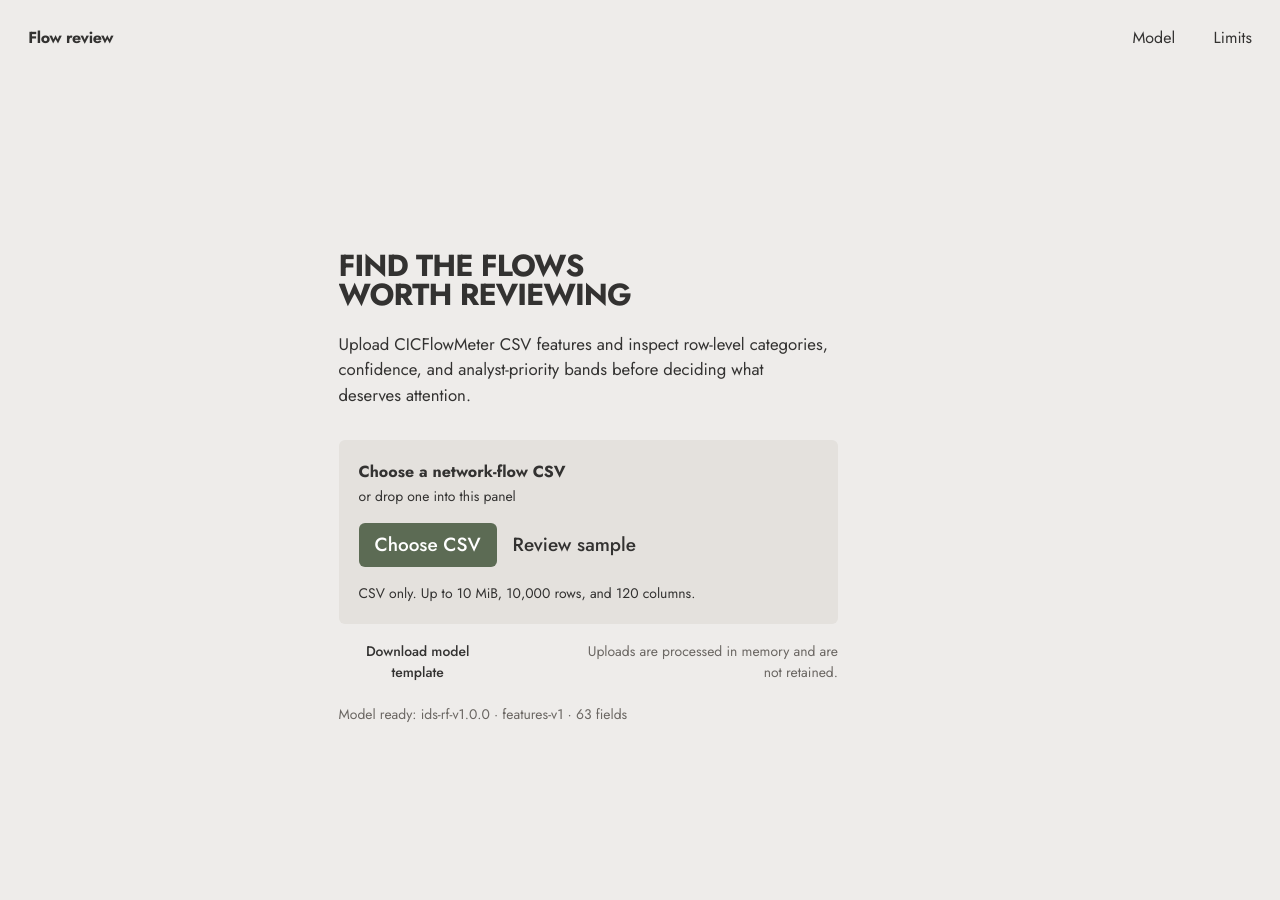
App live API states › cancels an in-flight upload from the keyboard
Expected: the text "Model ready: ids-rf-v1.0.0 · features-v1 · 63 fields" is shown, [338,704,627,725]
Click the button "Review sample".
click(574, 545)  # box [513,523,636,567]
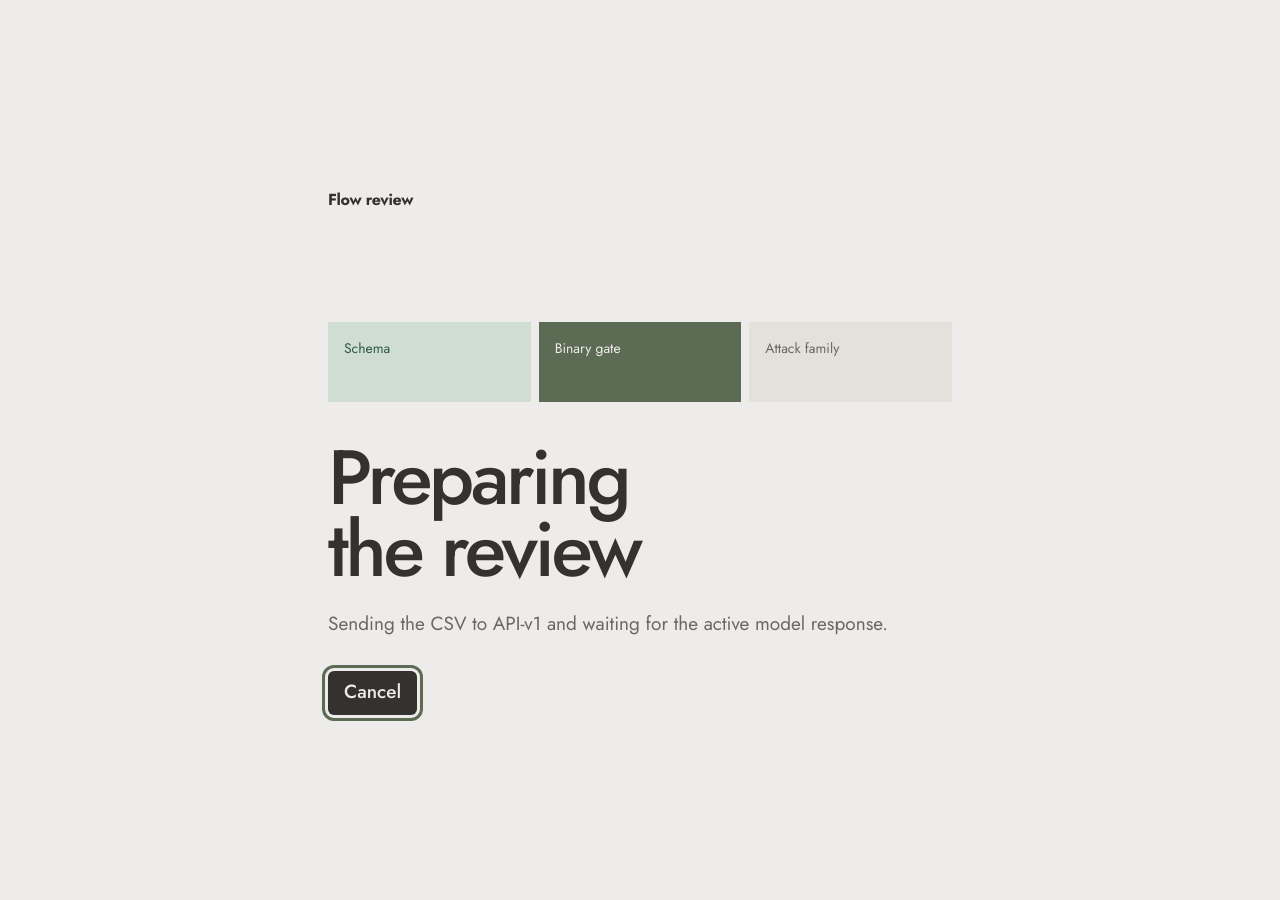
Press Enter
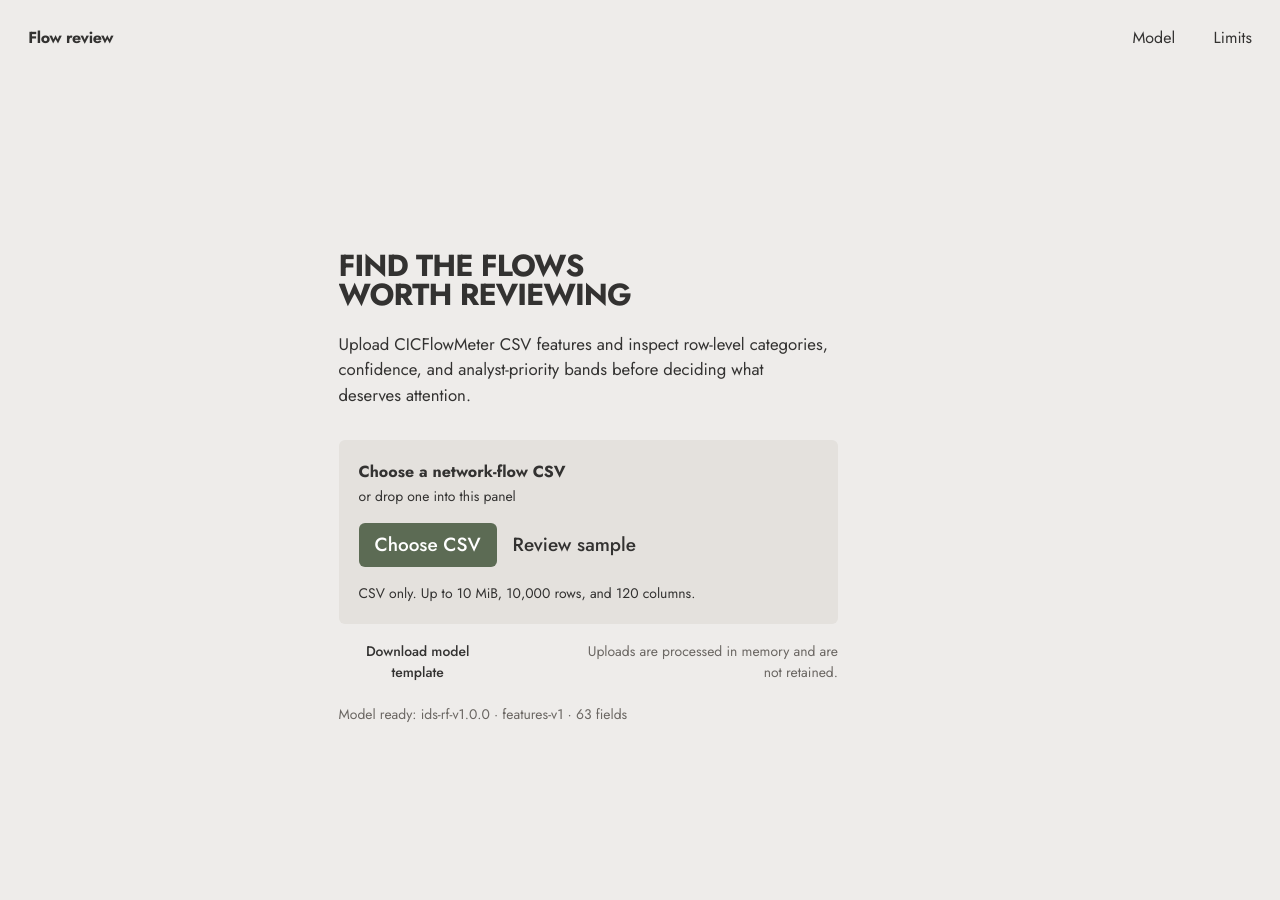
Expected: the heading "Find the flows worth reviewing" is shown, [338,243,631,316]
